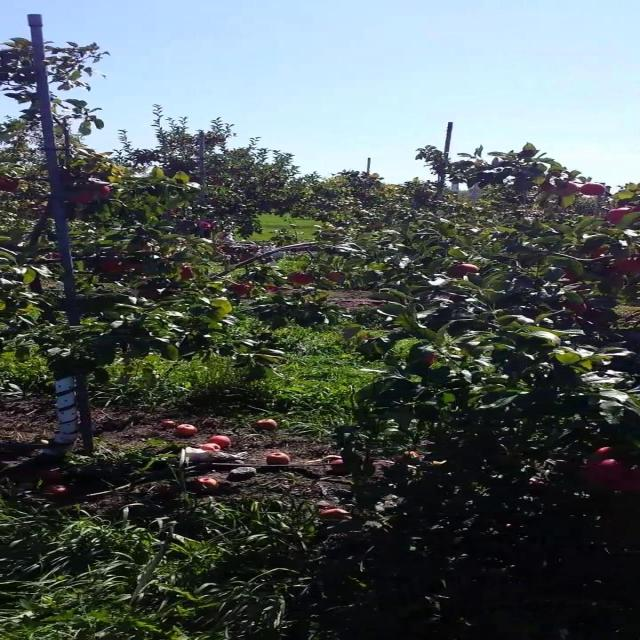apple: (582, 460, 628, 489), (618, 468, 639, 494), (547, 180, 580, 196), (596, 448, 631, 463), (611, 208, 638, 224), (540, 184, 576, 196), (611, 260, 639, 275), (454, 264, 482, 276), (561, 304, 590, 315), (291, 272, 315, 285), (554, 184, 580, 196), (589, 248, 612, 261), (582, 184, 606, 196), (92, 184, 114, 197), (589, 248, 612, 260), (70, 192, 92, 204), (99, 260, 121, 272), (561, 272, 581, 283), (141, 288, 160, 299), (234, 284, 254, 294), (6, 180, 21, 192), (612, 276, 626, 288), (326, 272, 343, 281), (127, 264, 144, 272), (184, 268, 194, 279), (426, 356, 439, 364), (269, 288, 279, 292)
